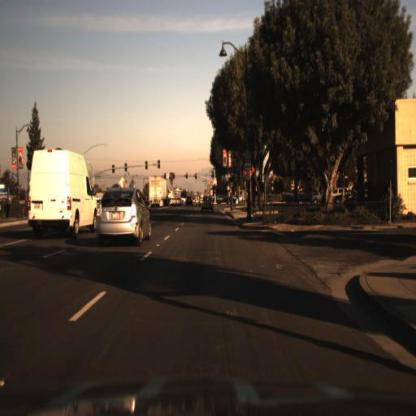car: (27, 144, 100, 242), (95, 184, 152, 244), (327, 180, 354, 207), (168, 187, 186, 215), (199, 194, 216, 214), (312, 188, 328, 208), (184, 193, 197, 211)
truck: (146, 173, 172, 212)
